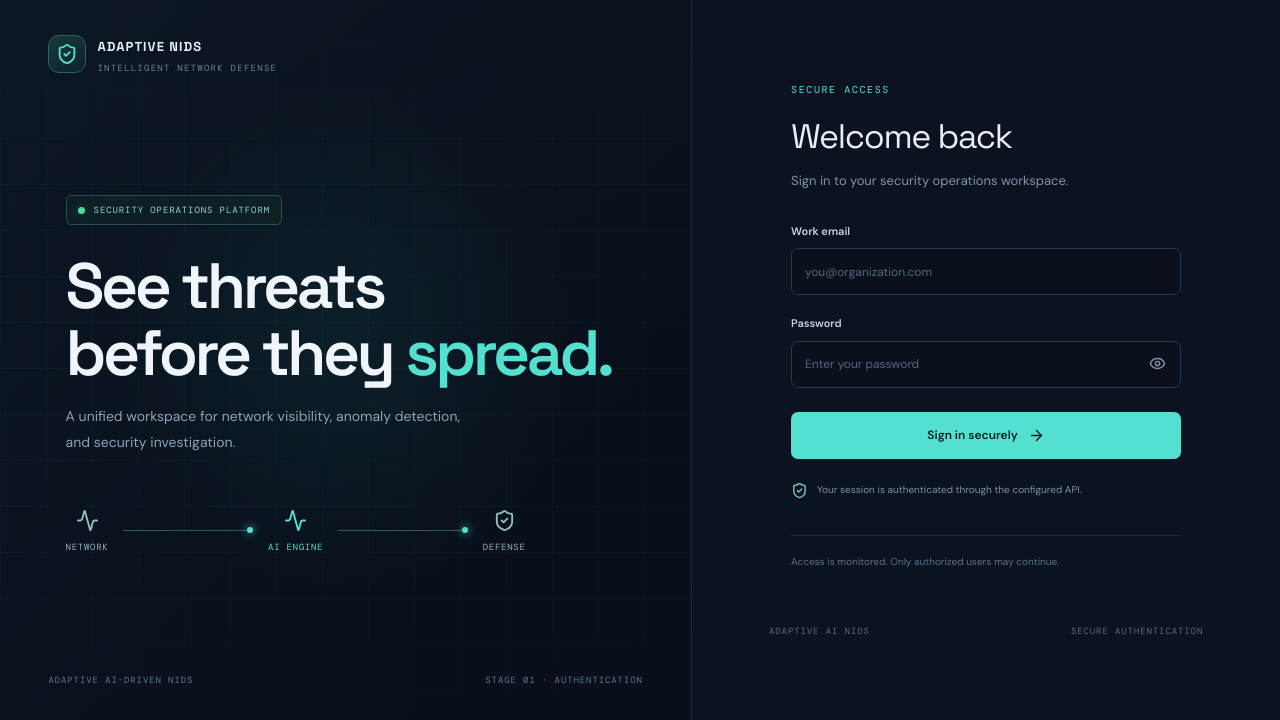
Test case: authentication › shows a readable error when login fails
Type "admin@example.com" into the field labelled "Work email". click: (986, 272)
box: [791, 248, 1181, 295]
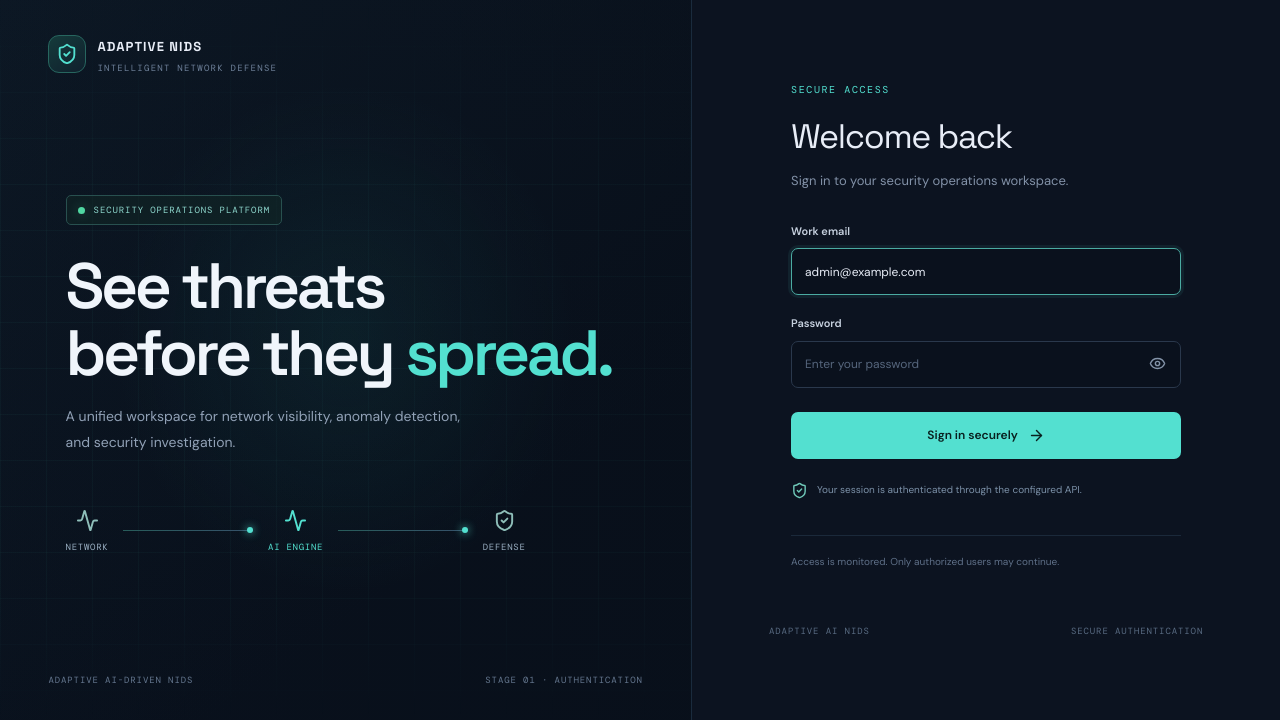
Type "wrong-password" into the password field labelled "Password". click: (986, 364)
box: [791, 341, 1181, 388]
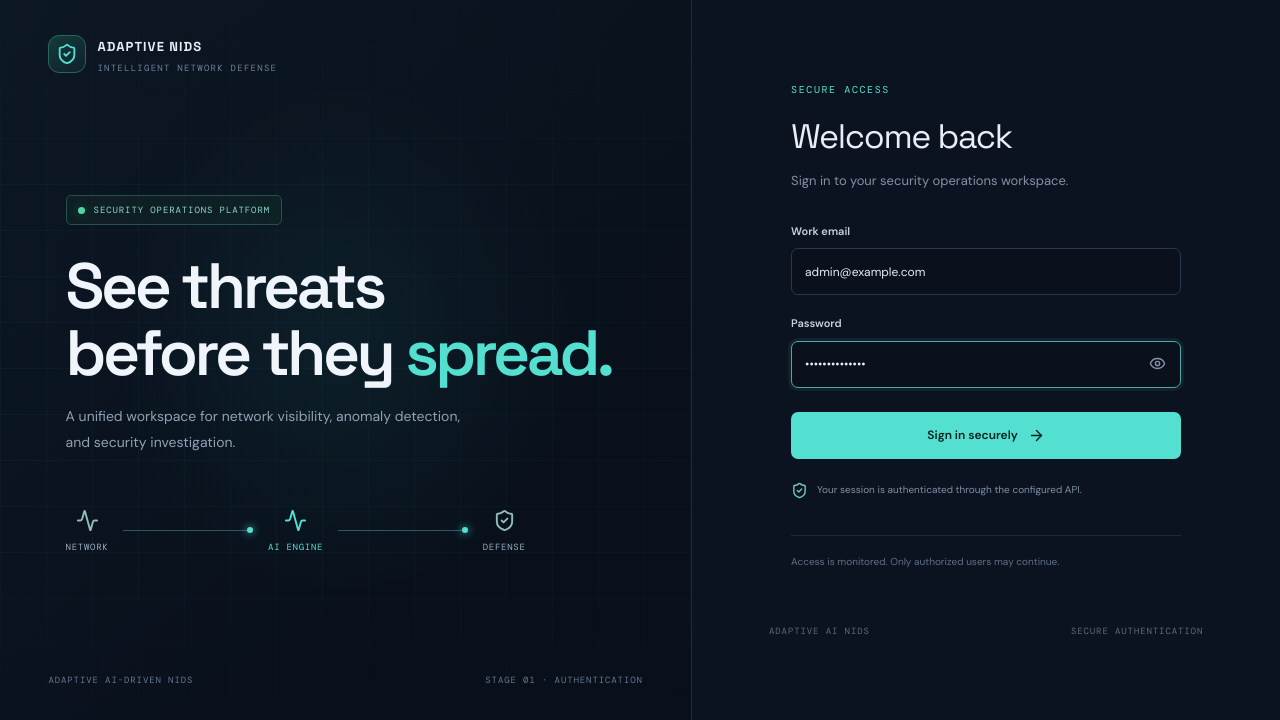
Click the button "Sign in securely". click: (986, 435)
box: [791, 412, 1181, 459]
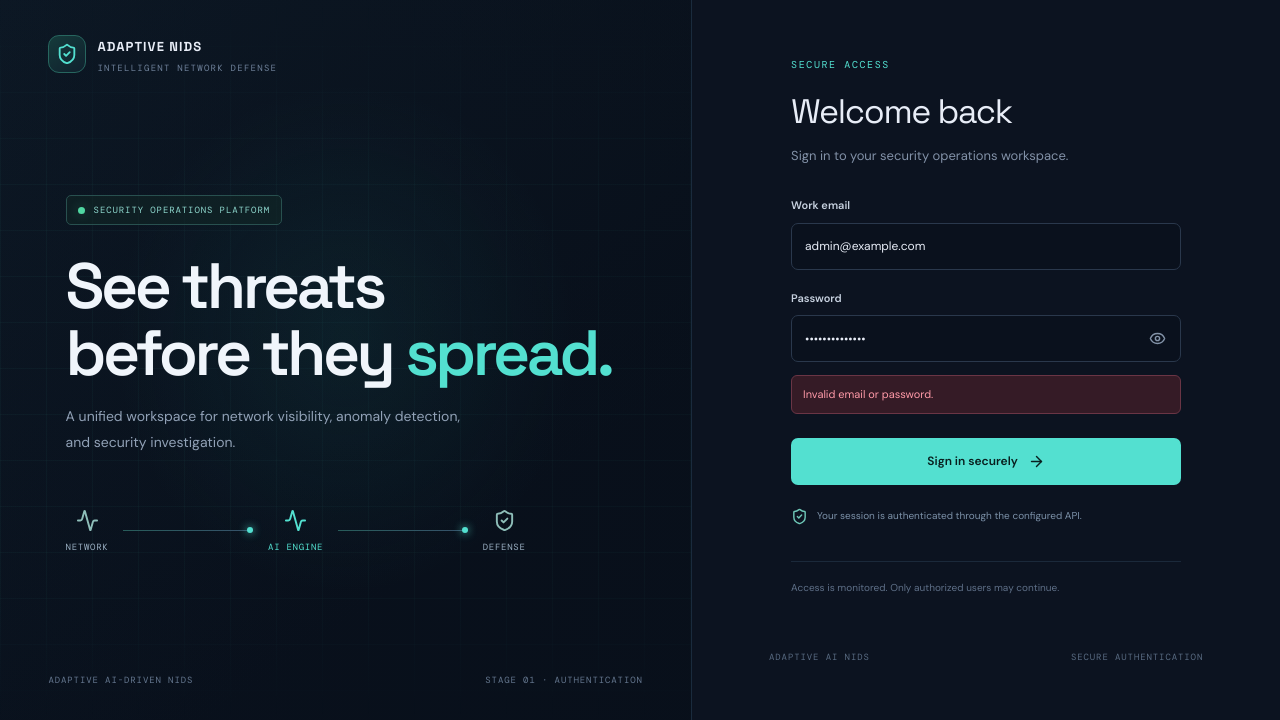
Check: the message reads "Invalid email or password.", box [803, 387, 933, 401]
